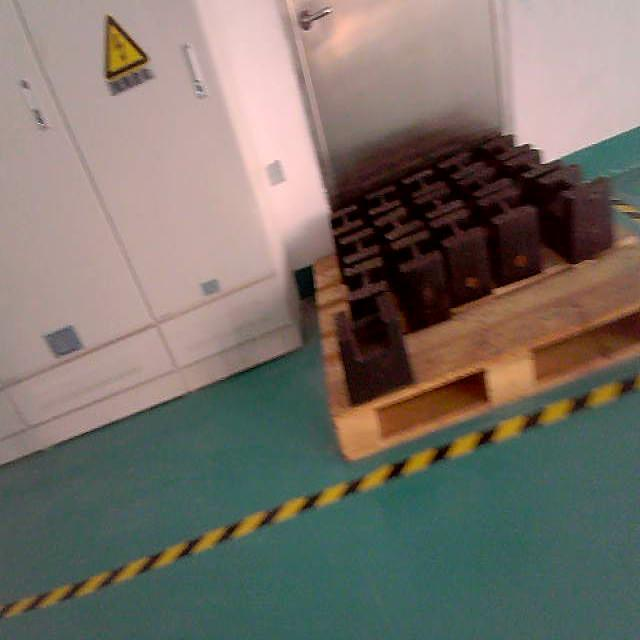euro: (315, 213, 639, 459)
